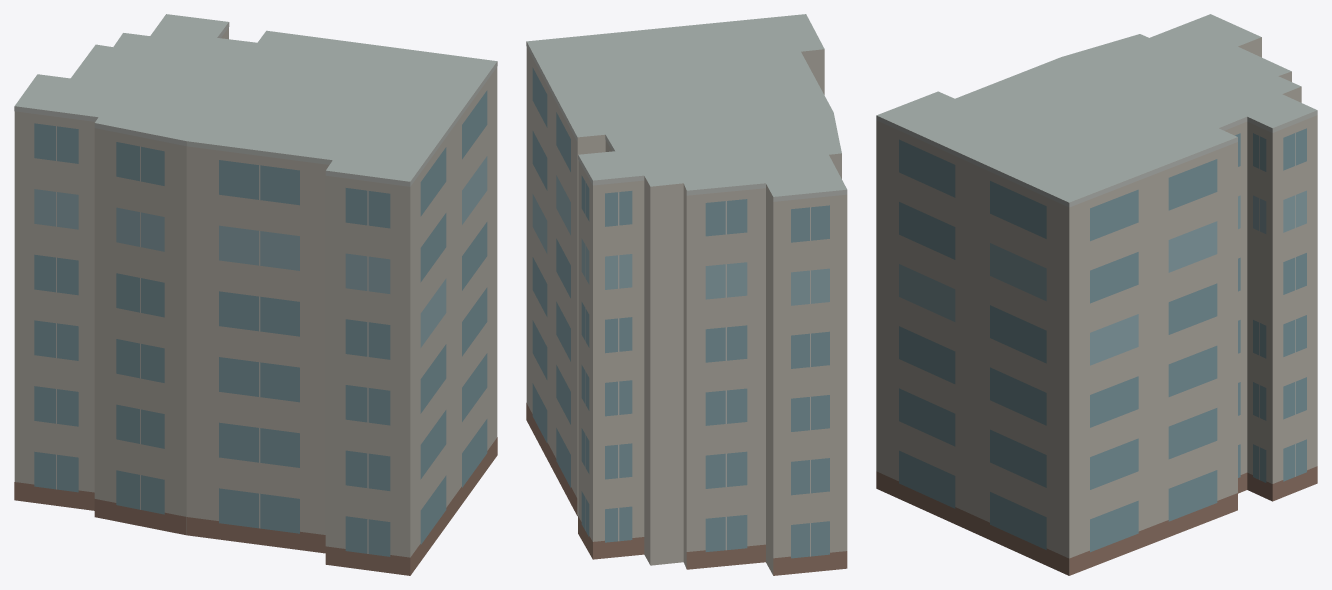
Rendered from survey-upis-32891040.glb.
3 renders of one model, left to right at view 1: azimuth 30°, elevation 25°; view 2: azimuth 150°, elevation 25°; view 3: azimuth 270°, elevation 25°, orthographic. The views are drawn at different scales.
Parts seen in each view (by area): view 1: survey-upis-32891040.tmp; view 2: survey-upis-32891040.tmp; view 3: survey-upis-32891040.tmp.
Part boxes in pixels (x1,y1,x2,y2): survey-upis-32891040.tmp: [14, 14, 497, 575]; survey-upis-32891040.tmp: [526, 14, 847, 575]; survey-upis-32891040.tmp: [876, 14, 1317, 575].
Size of the model in its own units: 20.28 by 18.7 by 20.04.
